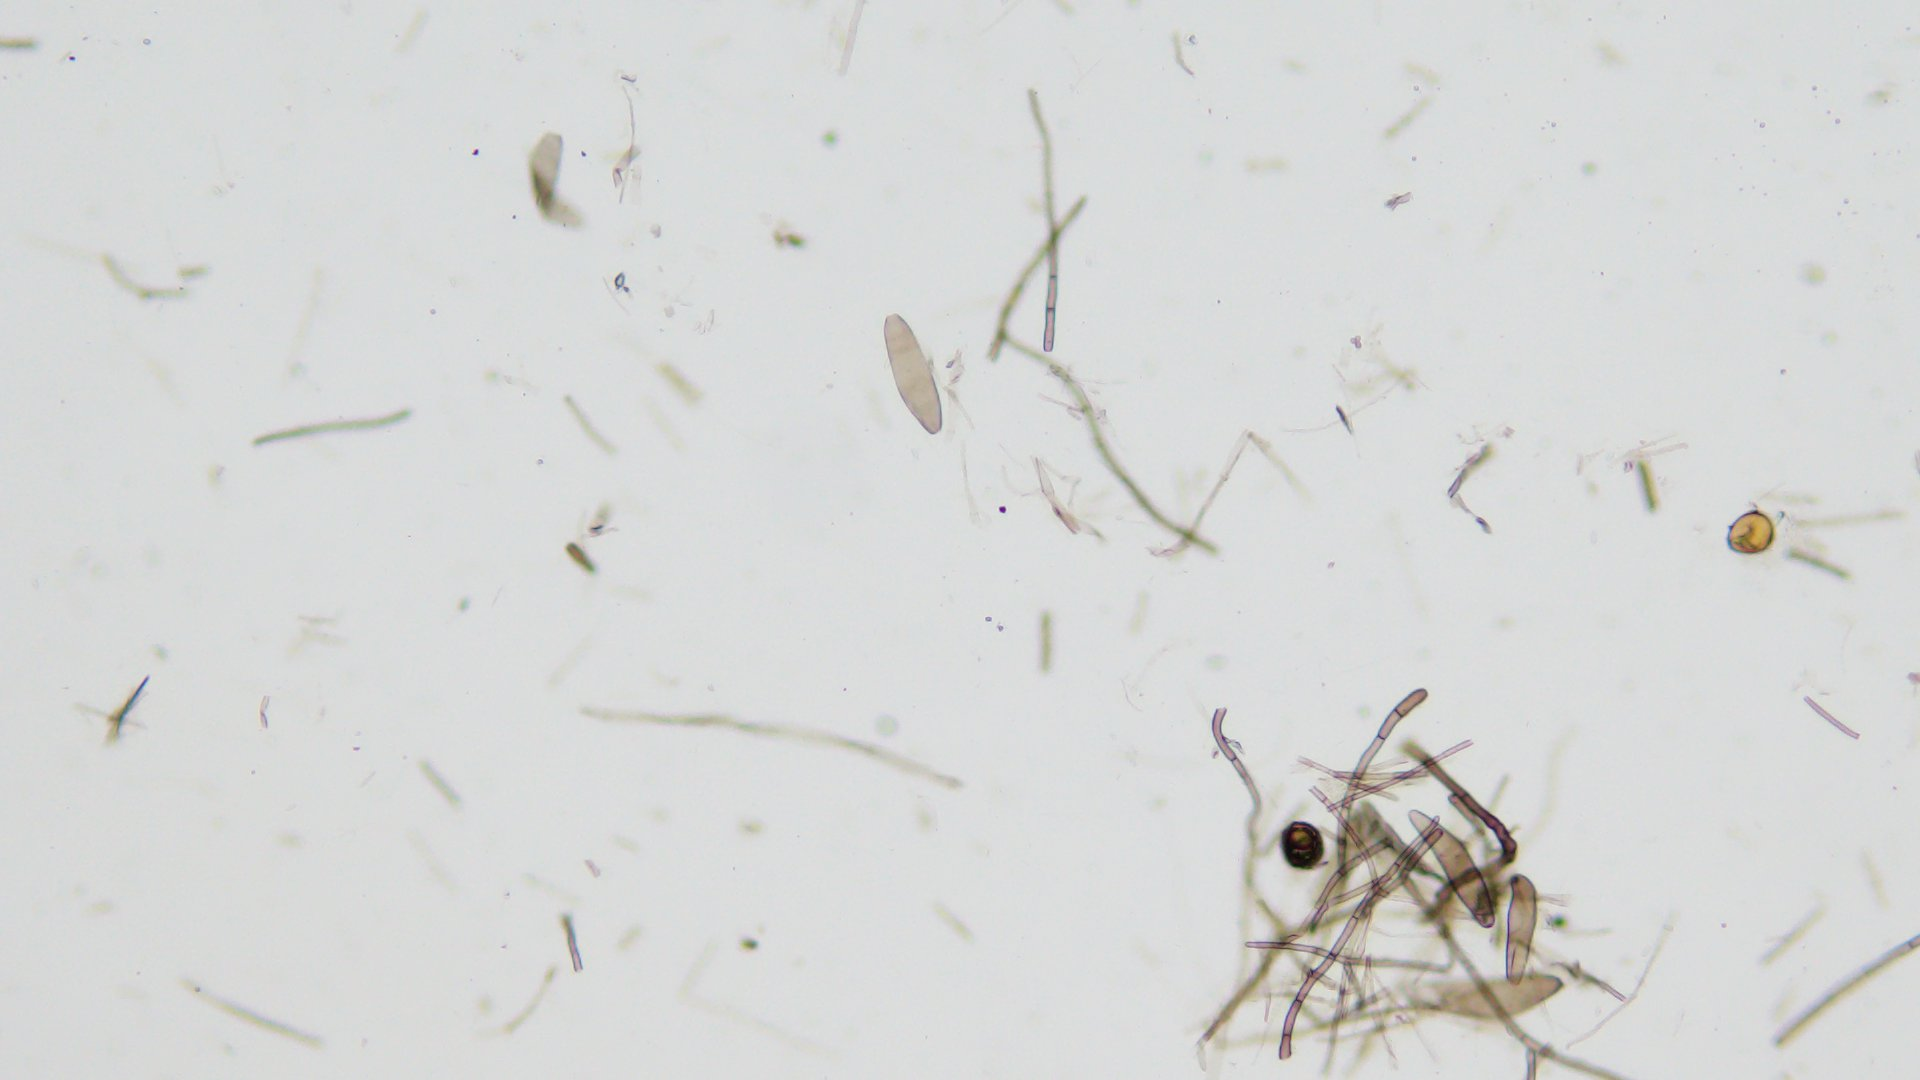dbb_spore: (1410, 810, 1498, 927), (882, 313, 945, 434), (1505, 876, 1534, 986)
xb_spore: (1726, 512, 1778, 554), (1280, 825, 1325, 870)
